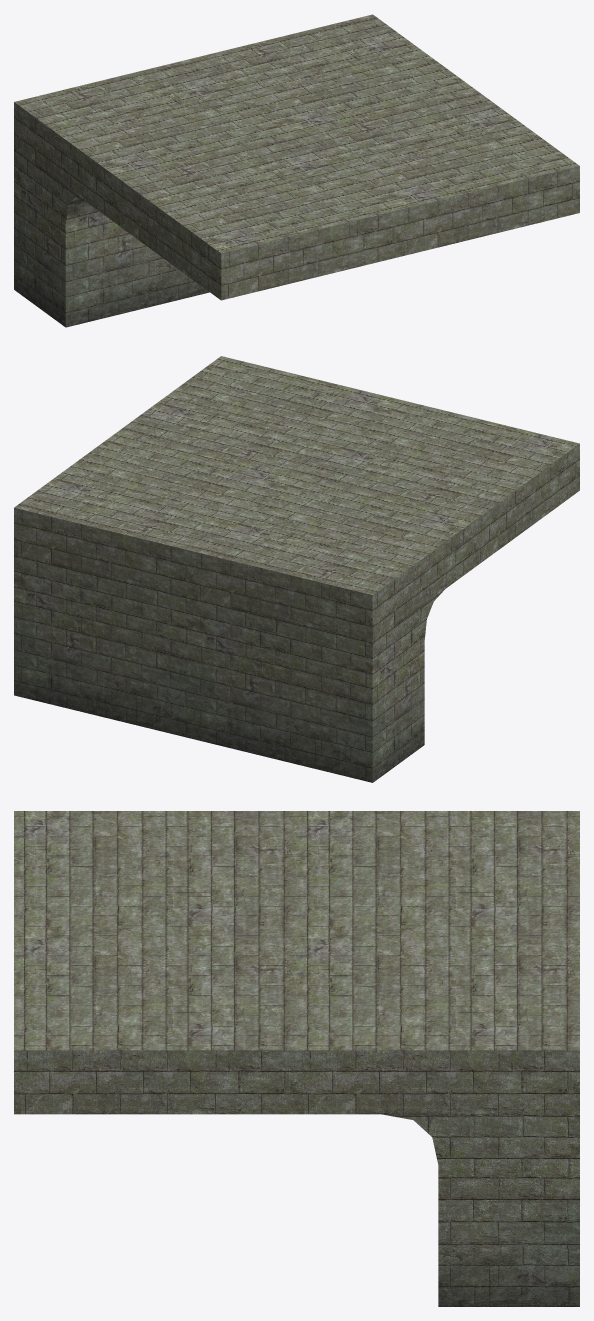
File: rooffittingcracked.fbx
3 renders of one model, top to bottom at view 1: azimuth 30°, elevation 25°; view 2: azimuth 150°, elevation 25°; view 3: azimuth 270°, elevation 25°, orthographic. The views are drawn at different scales.
Parts seen in each view (by area): view 1: Mesh Object; view 2: Mesh Object; view 3: Mesh Object.
Part boxes in pixels (bbox=[...]): Mesh Object: bbox=[14, 14, 579, 327]; Mesh Object: bbox=[14, 356, 579, 782]; Mesh Object: bbox=[14, 811, 579, 1306].
Bounding box in the file's own units: 4 × 2 × 4.
